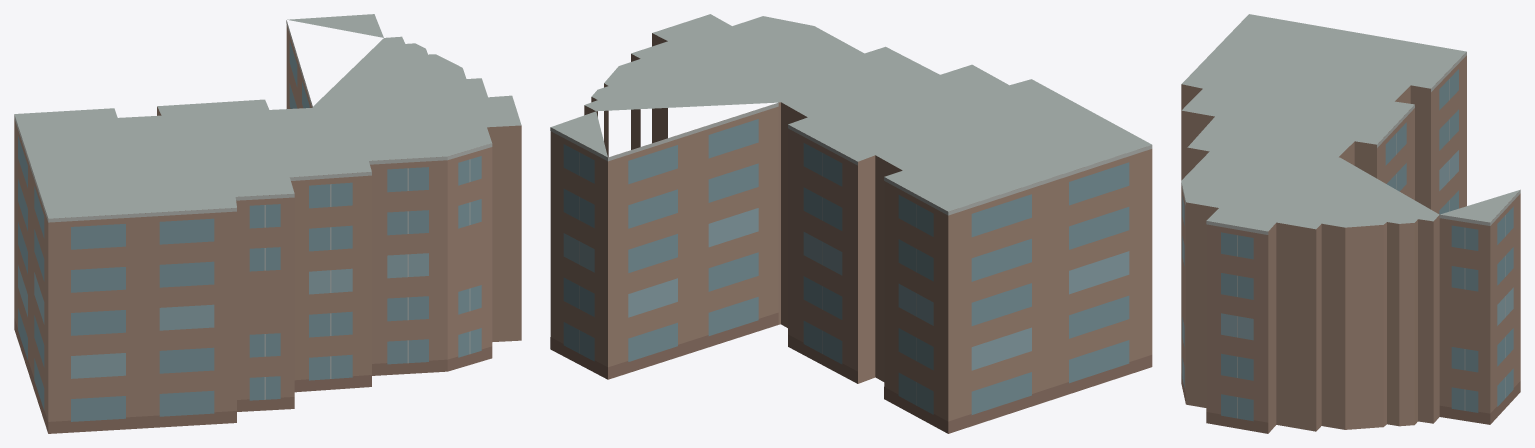
Rendered from survey-upis-32982386.glb.
3 renders of one model, left to right at view 1: azimuth 30°, elevation 25°; view 2: azimuth 150°, elevation 25°; view 3: azimuth 270°, elevation 25°, orthographic. The views are drawn at different scales.
Visible parts, largest first — view 1: survey-upis-32982386.tmp; view 2: survey-upis-32982386.tmp; view 3: survey-upis-32982386.tmp.
Part boxes in pixels (x1=…): survey-upis-32982386.tmp: x1=14, y1=14, x2=521, y2=433; survey-upis-32982386.tmp: x1=550, y1=14, x2=1152, y2=433; survey-upis-32982386.tmp: x1=1181, y1=14, x2=1520, y2=433.
Size of the model in its own units: 32.07 by 13.9 by 21.14.
